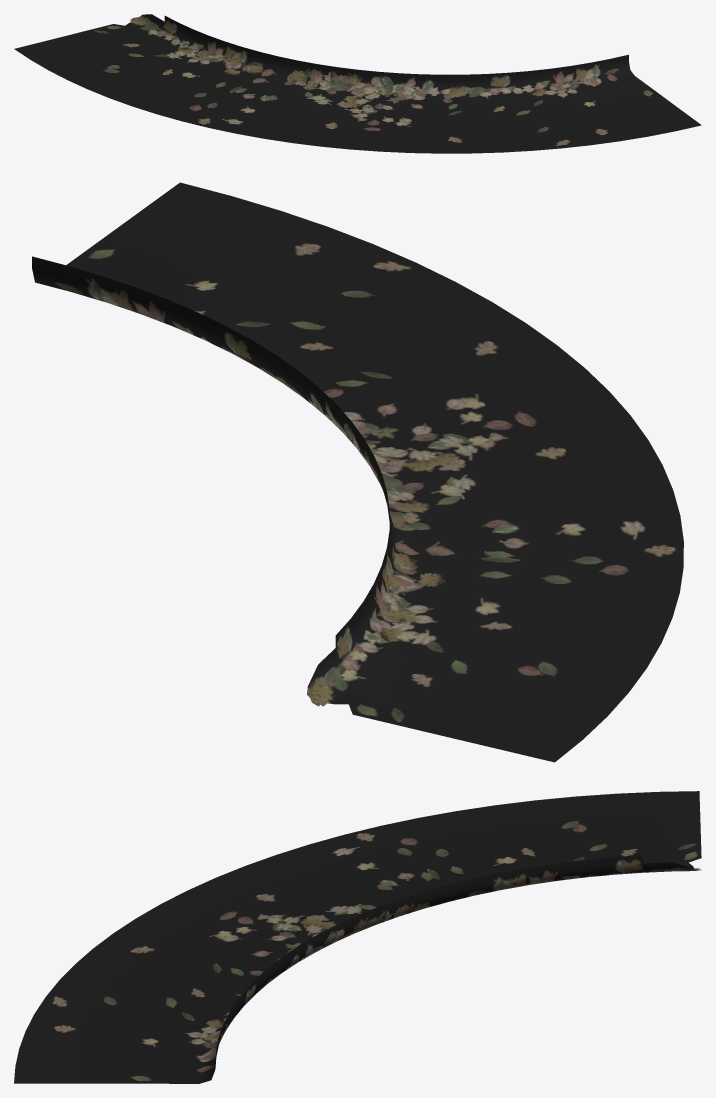
The model's file is SM_leaf_decal_02.fbx.
3 views of the same model, one above another, from view 1: azimuth 30°, elevation 25°; view 2: azimuth 150°, elevation 25°; view 3: azimuth 270°, elevation 25° (orthographic). The views are drawn at different scales.
Visible parts, largest first — view 1: SM_leaf_decal_02; view 2: SM_leaf_decal_02; view 3: SM_leaf_decal_02.
Boxes of the visible parts, x1,y1,x2,y2 form: SM_leaf_decal_02: (14,14,701,153); SM_leaf_decal_02: (32,182,683,762); SM_leaf_decal_02: (14,791,701,1083).
Size of the model in its own units: 721 by 716 by 26.39.
1 material, 1 textured.
